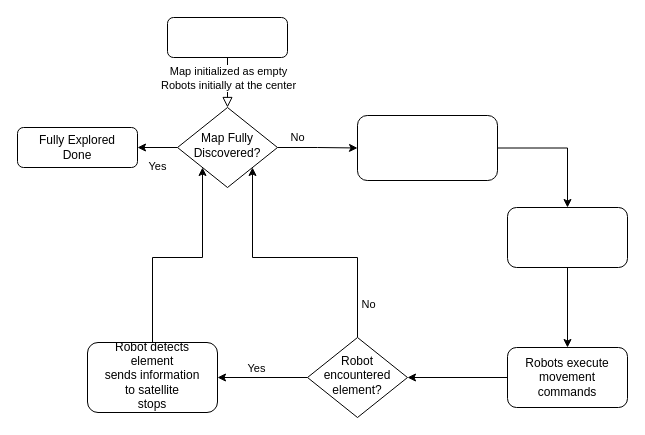
The diagram is 645 pixels wide and 435 high, and some of its shapes have lost their labels. The centre of each missing label's shape, as x and y in pixels:
Algorithm generates movement commands for robots based on the current map: point 427,147
Commands sent to the robots via the communication module: point 567,237
Robots Land: point 227,37
